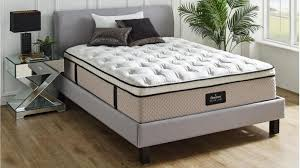bed-matress: (63, 34, 277, 125)
